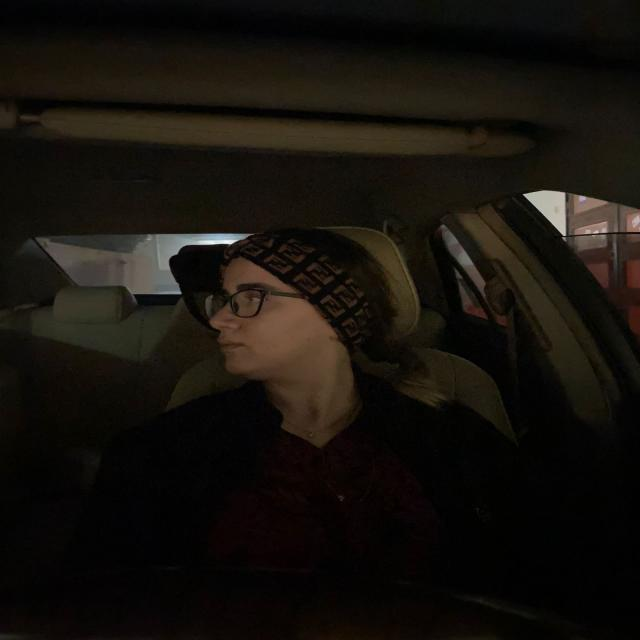LeftRight: (195, 220, 412, 403)
